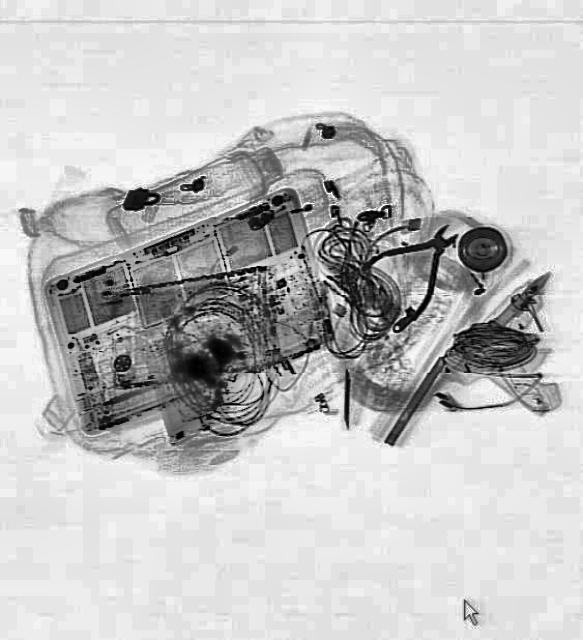Pliers: (354, 199, 478, 323)
